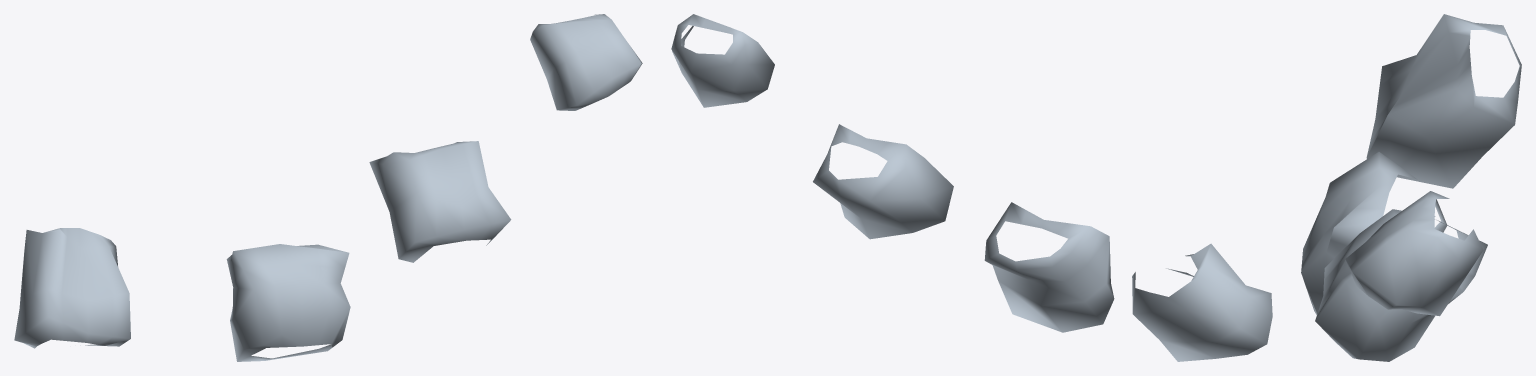
Rendered from articular-capsules-of-proximal-interphalangeal-joints-r.glb.
3 renders of one model, left to right at view 1: azimuth 30°, elevation 25°; view 2: azimuth 150°, elevation 25°; view 3: azimuth 270°, elevation 25°, orthographic. The views are drawn at different scales.
Visible parts, largest first — view 1: Articular capsules of proximal interphalangeal joints.r; view 2: Articular capsules of proximal interphalangeal joints.r; view 3: Articular capsules of proximal interphalangeal joints.r.
Boxes of the visible parts, x1,y1,x2,y2 form: Articular capsules of proximal interphalangeal joints.r: (14,14,642,361); Articular capsules of proximal interphalangeal joints.r: (671,14,1272,361); Articular capsules of proximal interphalangeal joints.r: (1301,14,1521,361).
Bounding box in the file's own units: 0.0914 × 0.035 × 0.0226.
